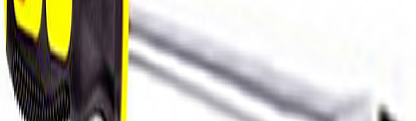Screwdriver: (4, 1, 400, 121)
